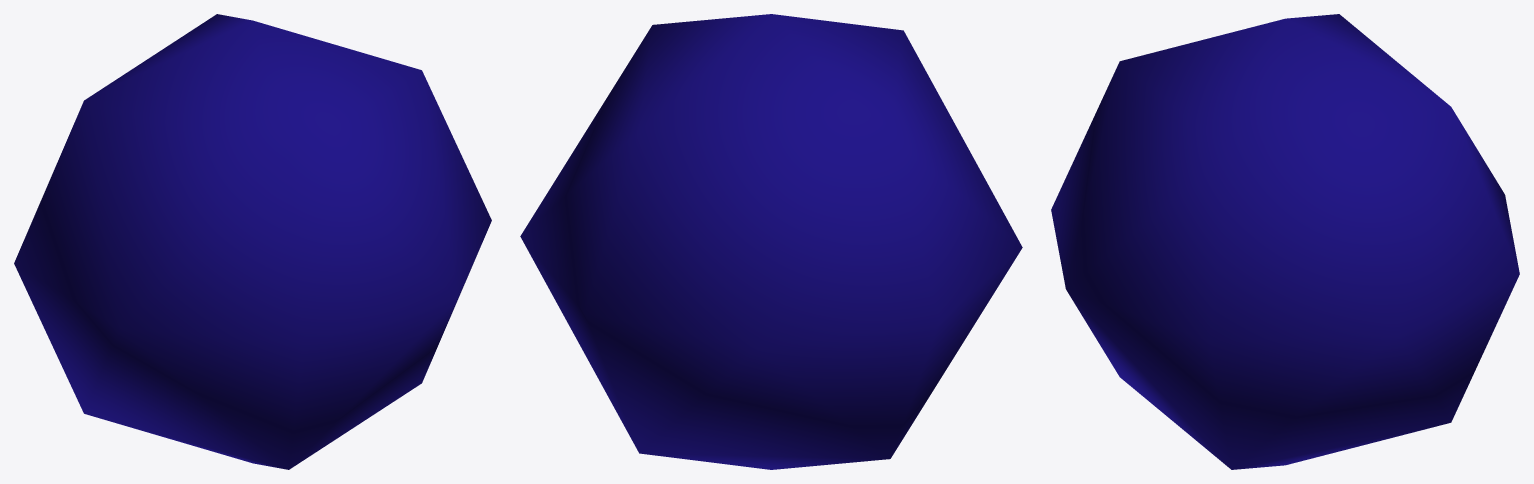
Rendered from ARKENSTONE.fbx.
3 views of the same model, side by side, from view 1: azimuth 30°, elevation 25°; view 2: azimuth 150°, elevation 25°; view 3: azimuth 270°, elevation 25° (orthographic). The views are drawn at different scales.
Parts seen in each view (by area): view 1: ARKENSTONE; view 2: ARKENSTONE; view 3: ARKENSTONE.
Part boxes in pixels (x1,y1,x2,y2): ARKENSTONE: (14, 14, 491, 469); ARKENSTONE: (520, 14, 1022, 469); ARKENSTONE: (1051, 14, 1519, 469).
Size of the model in its own units: 3524 by 3705 by 3524.
1 material, 1 textured.
